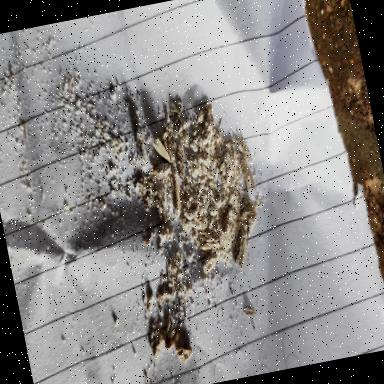pbw: (229, 225, 254, 269), (160, 312, 185, 348), (148, 319, 170, 359), (134, 122, 154, 164), (233, 125, 253, 164), (174, 111, 192, 150), (168, 173, 184, 213), (152, 134, 171, 166), (173, 141, 189, 179), (192, 99, 216, 124), (239, 156, 255, 190), (198, 111, 217, 137), (238, 200, 258, 224), (200, 252, 220, 276), (148, 160, 172, 178), (176, 344, 194, 362), (202, 226, 219, 242), (199, 240, 221, 252), (222, 136, 238, 152), (243, 304, 256, 316)
